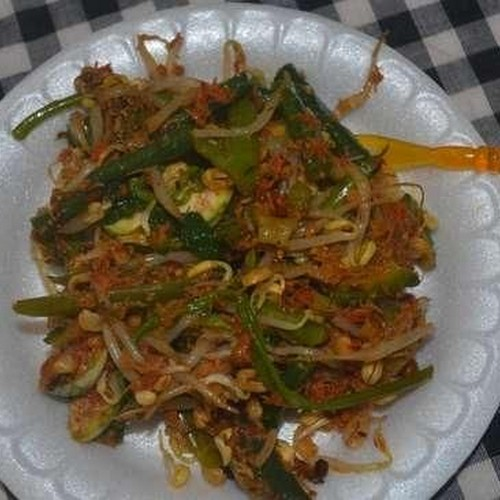serombotan: (61, 96, 378, 477)
